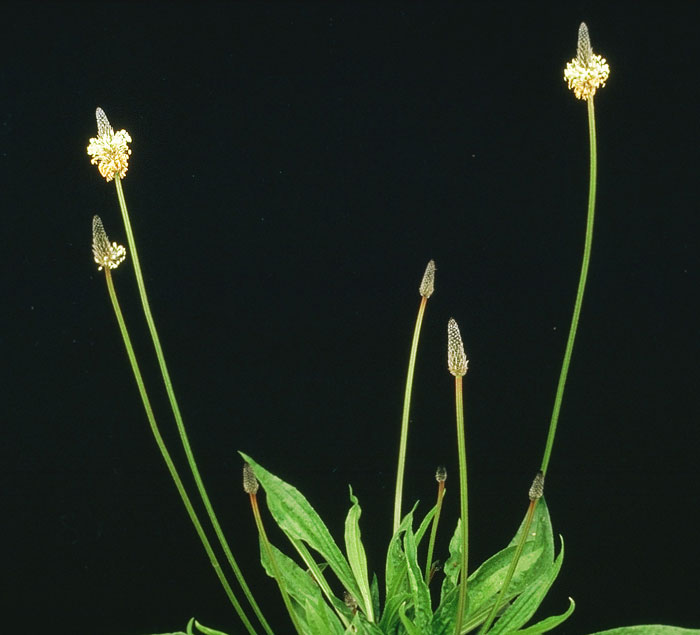buckhorn plantain: (29, 19, 612, 631)
